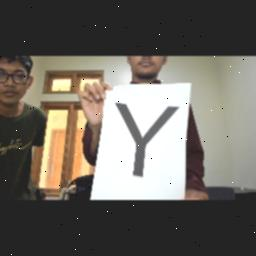y: (110, 98, 182, 184)
